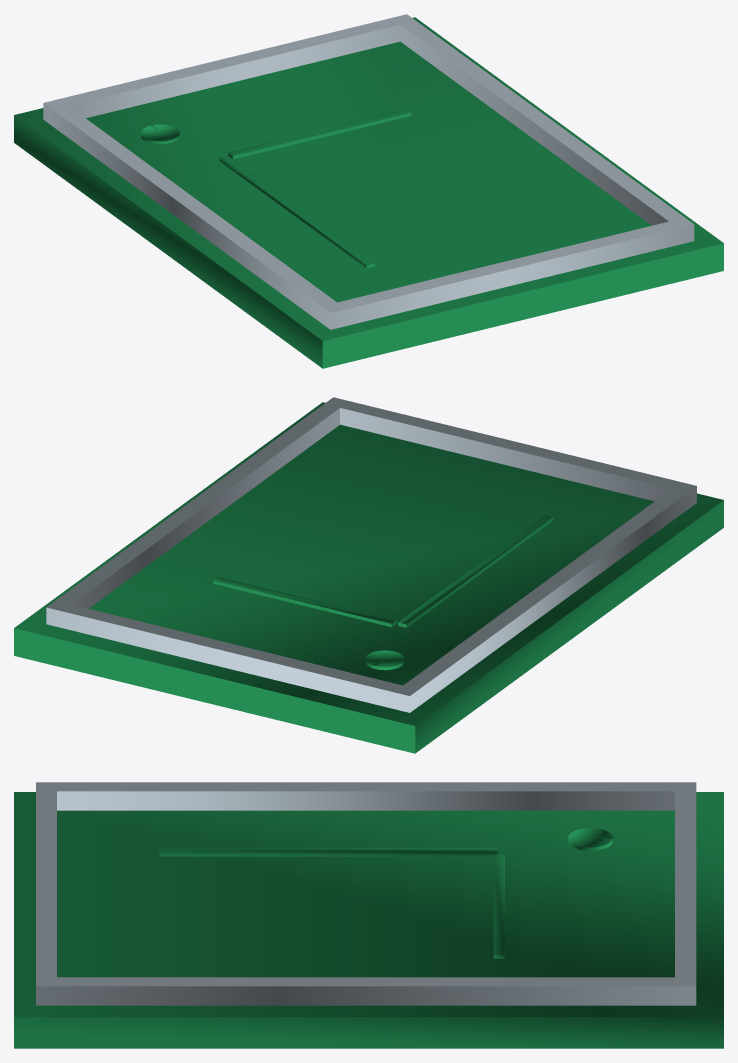
The model's file is Level21.fbx.
The picture shows the model from 3 angles, top to bottom: view 1: azimuth 30°, elevation 25°; view 2: azimuth 150°, elevation 25°; view 3: azimuth 270°, elevation 25°; orthographic projection. The views are drawn at different scales.
Parts seen in each view (by area): view 1: Box002, Rectangle0; view 2: Box002, Rectangle0; view 3: Box002, Rectangle0.
Boxes of the visible parts, box(x1,y1,x2,y2) form: Box002: box(14, 17, 723, 368); Rectangle0: box(43, 14, 694, 329); Box002: box(14, 402, 723, 753); Rectangle0: box(46, 397, 696, 712); Box002: box(14, 792, 723, 1048); Rectangle0: box(36, 782, 696, 1005).
Size of the model in its own units: 135 by 14.27 by 180.
